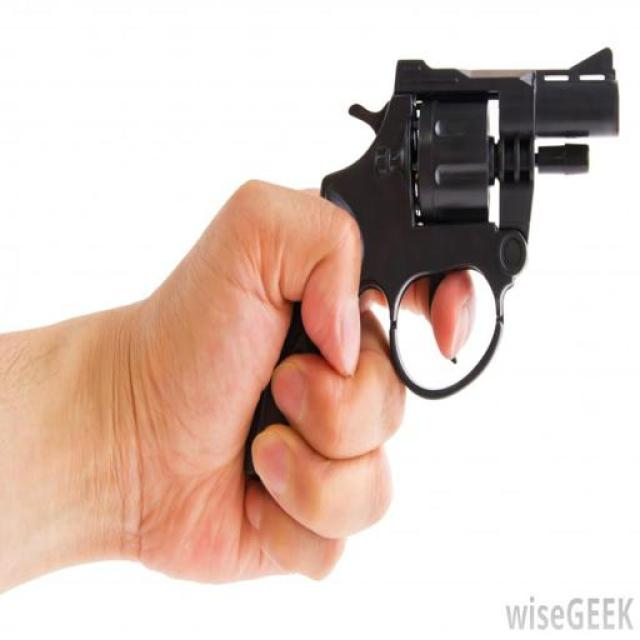pistol: (240, 46, 620, 482)
